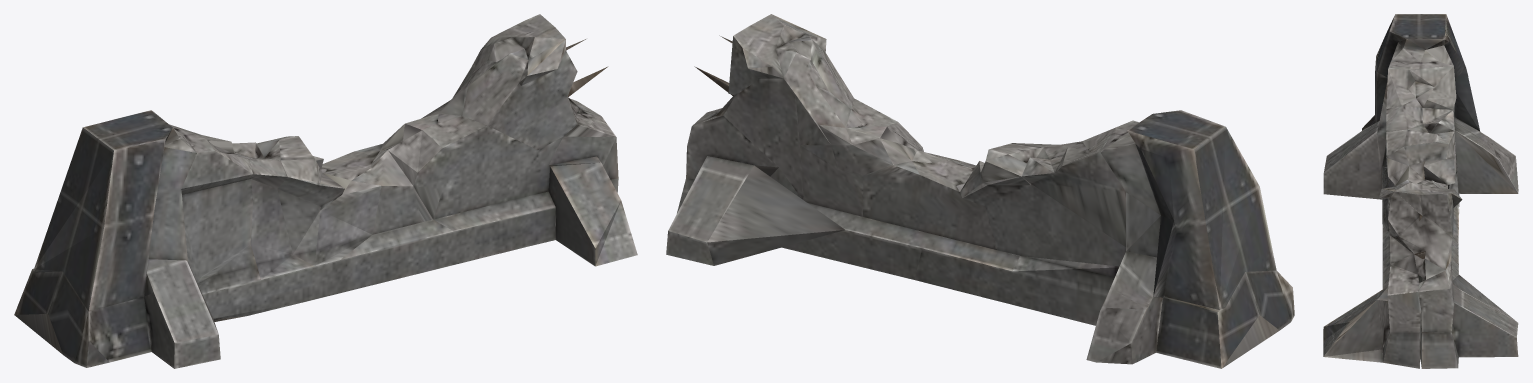
The model's file is shared_rubble_kit__wall_stub_low_lod2.glb.
The picture shows the model from 3 angles, left to right: view 1: azimuth 30°, elevation 25°; view 2: azimuth 150°, elevation 25°; view 3: azimuth 270°, elevation 25°; orthographic projection. The views are drawn at different scales.
Parts seen in each view (by area): view 1: mesh_node; view 2: mesh_node; view 3: mesh_node.
Part boxes in pixels (left/top/right/bottom): mesh_node: left=14, top=14, right=637, bottom=368; mesh_node: left=666, top=14, right=1294, bottom=368; mesh_node: left=1323, top=14, right=1518, bottom=368.
Bounding box in the file's own units: 7.3 × 2.4 × 2.7.
Materials: 1 (1 with a texture image).
